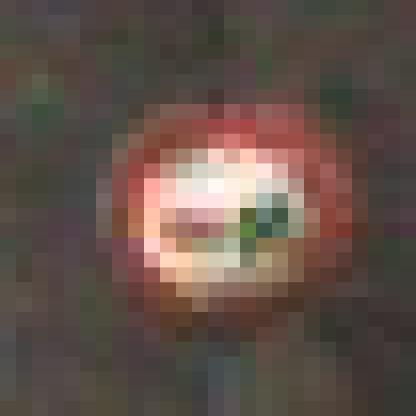No Overtaking: (97, 90, 337, 328)
